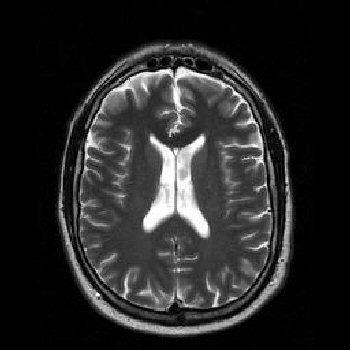Normal_Brain: (2, 1, 350, 350)
